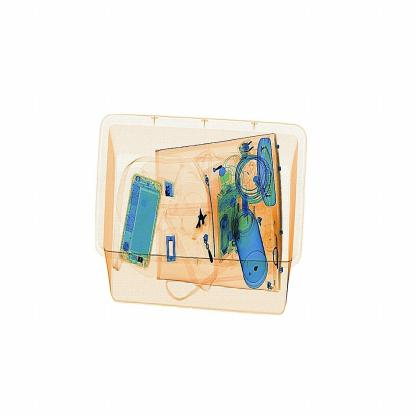gun: (182, 194, 216, 253)
